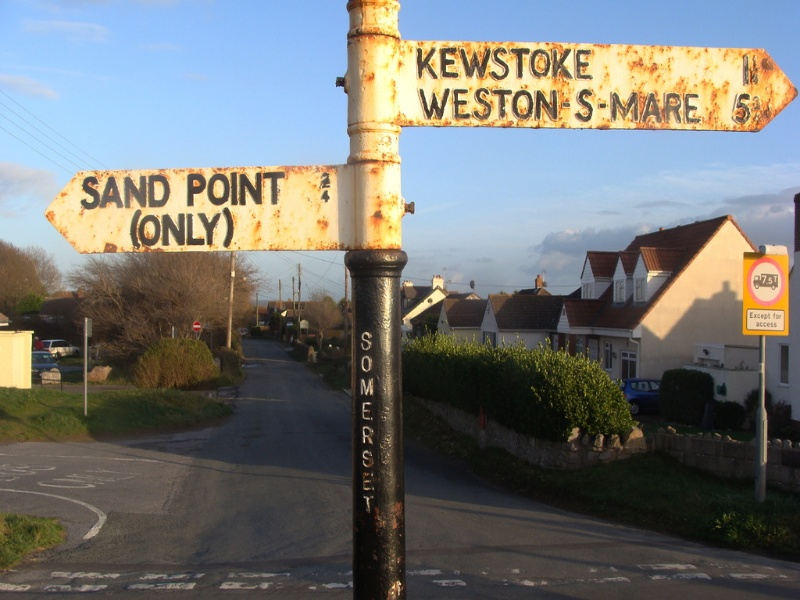no_entry: (191, 319, 203, 333)
